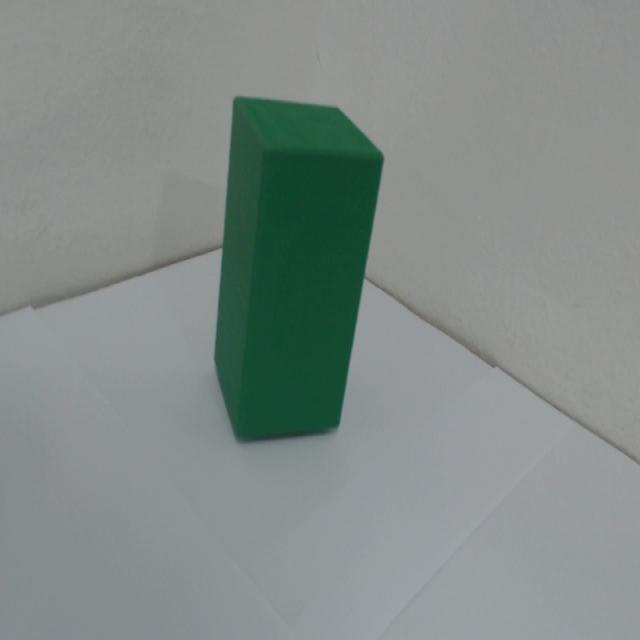cube: (214, 40, 388, 504)
